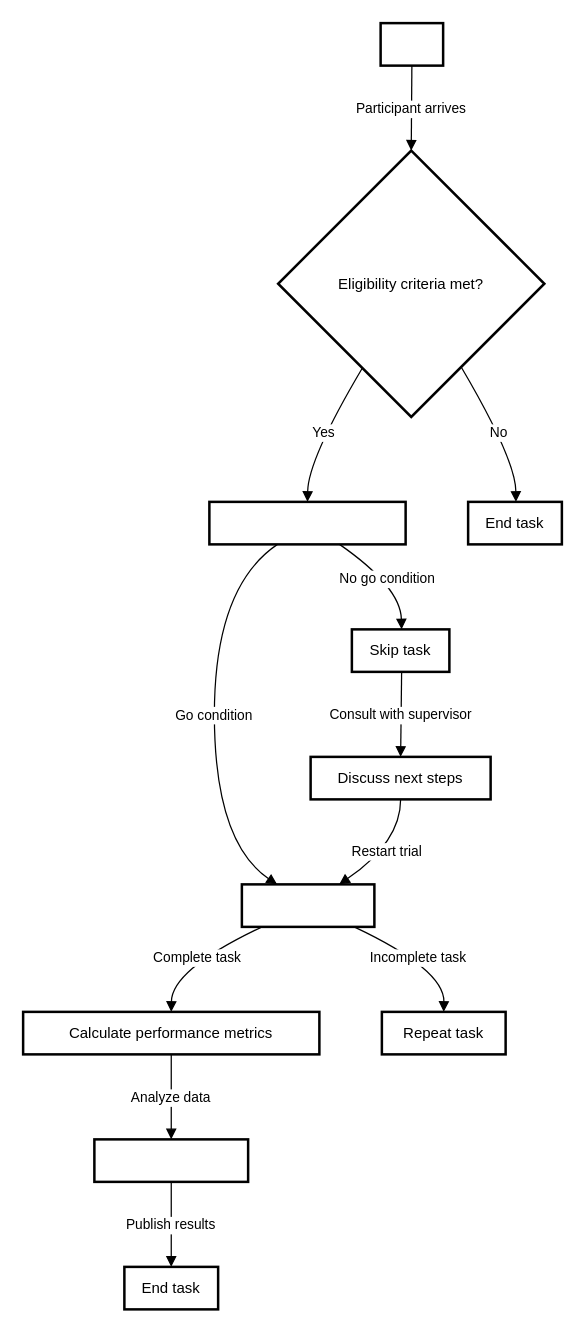
Image size: 584x1331. Some labels were removed from this diagram. Each missing label, with the box of its shape:
Perform task: (240, 882, 375, 928)
Random assignment: (208, 500, 406, 545)
Report findings: (92, 1138, 249, 1182)
Start: (379, 21, 444, 66)
